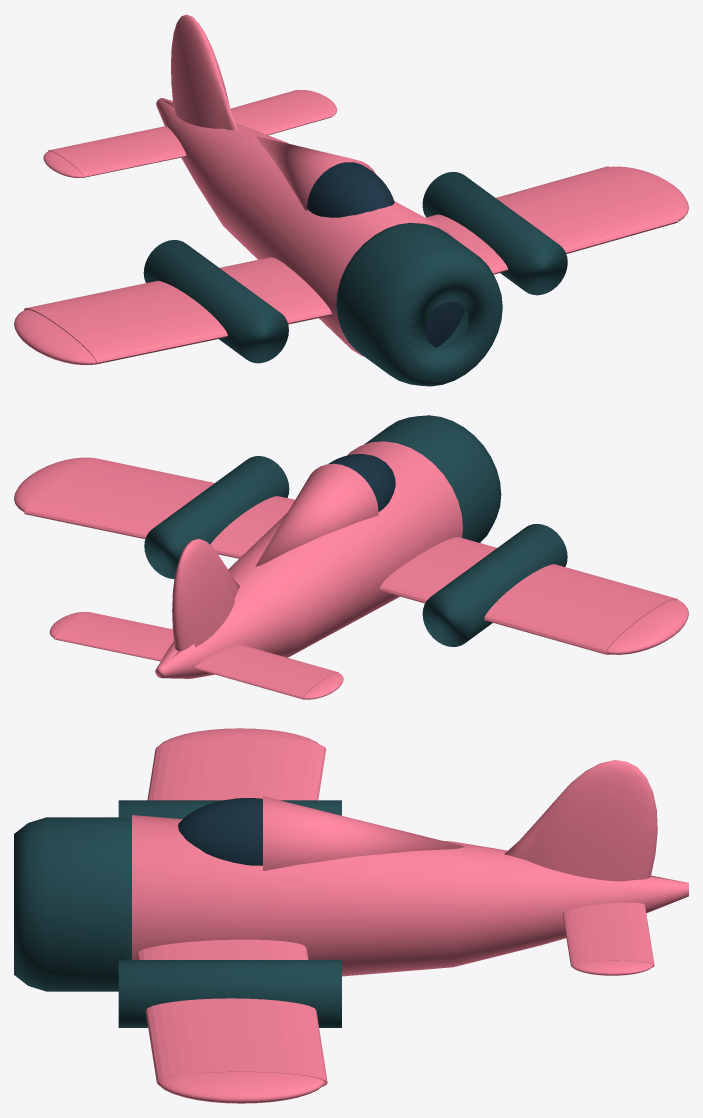
Rendered from moveEnemy.glb.
The picture shows the model from 3 angles, top to bottom: view 1: azimuth 30°, elevation 25°; view 2: azimuth 150°, elevation 25°; view 3: azimuth 270°, elevation 25°; orthographic projection. The views are drawn at different scales.
Parts seen in each view (by area): view 1: Cylinder.006, Cylinder.007, Cylinder.001, Cylinder.002, Sphere.005, Cylinder.008; view 2: Cylinder.006, Cylinder.002, Cylinder.007, Cylinder.001, Sphere.005; view 3: Cylinder.006, Cylinder.007, Cylinder.001, Sphere.005, Cylinder.002.
Part boxes in pixels (box(x1,y1,x2,y2)): Cylinder.006: box(14, 14, 688, 365); Cylinder.007: box(336, 223, 502, 386); Cylinder.001: box(422, 172, 567, 295); Cylinder.002: box(143, 240, 288, 363); Sphere.005: box(307, 162, 394, 217); Cylinder.008: box(425, 301, 465, 347); Cylinder.006: box(14, 441, 688, 699); Cylinder.002: box(422, 524, 567, 646); Cylinder.007: box(364, 415, 501, 542); Cylinder.001: box(144, 456, 289, 578); Sphere.005: box(328, 454, 395, 511); Cylinder.006: box(132, 728, 688, 1103); Cylinder.007: box(14, 817, 131, 991); Cylinder.001: box(118, 960, 341, 1027); Sphere.005: box(178, 798, 262, 865); Cylinder.002: box(118, 800, 341, 820).
Bounding box in the file's own units: 12.84 × 3.63 × 9.9.
